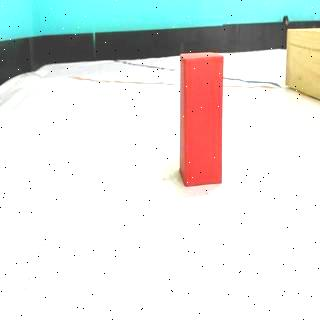redbox: (178, 51, 225, 188)
